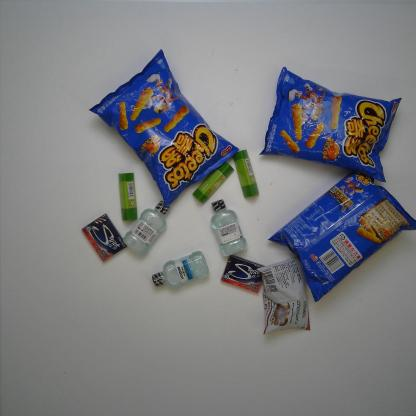Gum: (81, 213, 127, 262), (221, 255, 265, 294)
Personal Hygiene: (124, 200, 170, 255), (152, 251, 209, 289), (210, 200, 247, 255)
Puffed Food: (90, 49, 240, 208), (268, 165, 416, 303), (259, 66, 402, 184)
Seasoner: (256, 254, 310, 335)
Stationery: (192, 159, 234, 204), (232, 150, 259, 198), (118, 173, 138, 221)
